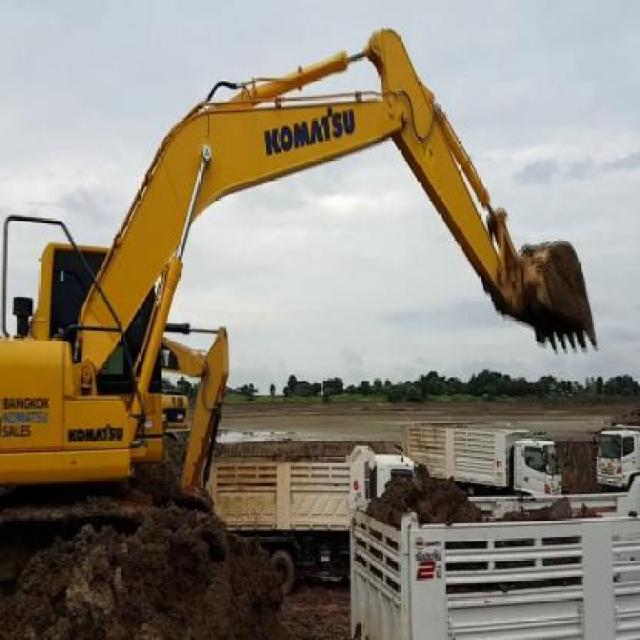dump_truck: (346, 476, 640, 639), (208, 444, 421, 588), (402, 416, 561, 502), (597, 423, 640, 486)
excavator: (0, 23, 600, 560)
